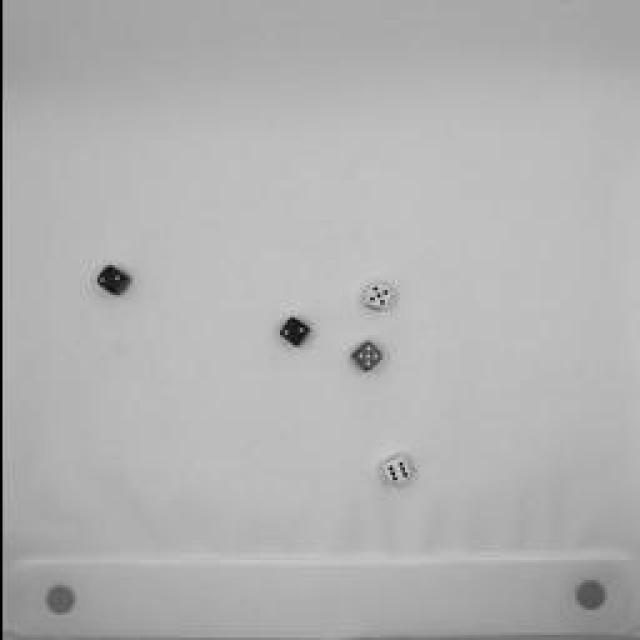dice_2: (88, 256, 138, 304), (268, 310, 318, 355)
dice_5: (340, 332, 390, 378), (354, 275, 396, 317)
dice_6: (372, 450, 412, 495)
